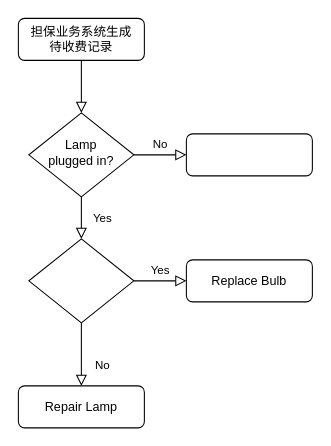
Some shapes in this 331 by 446 pixel diagram are drawn without their labels. The box of each missing label's shape, as (x1, y1, x2, y2) in pixels:
Bulb burned out?: (28, 238, 134, 323)
Plug in lamp: (185, 133, 312, 176)
